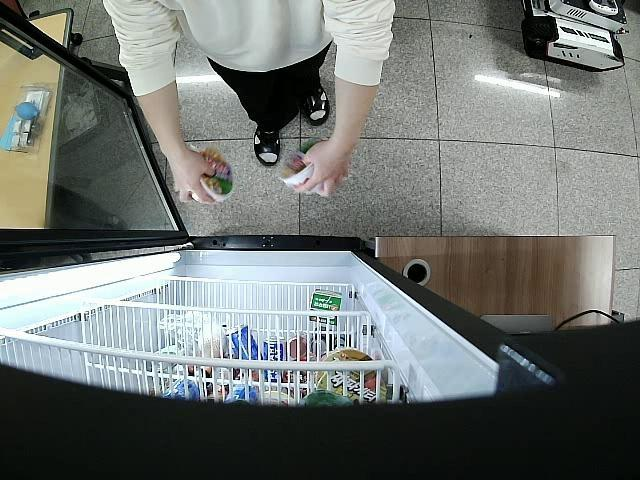09_yukGaeJang: (280, 136, 330, 192), (191, 146, 236, 205)
